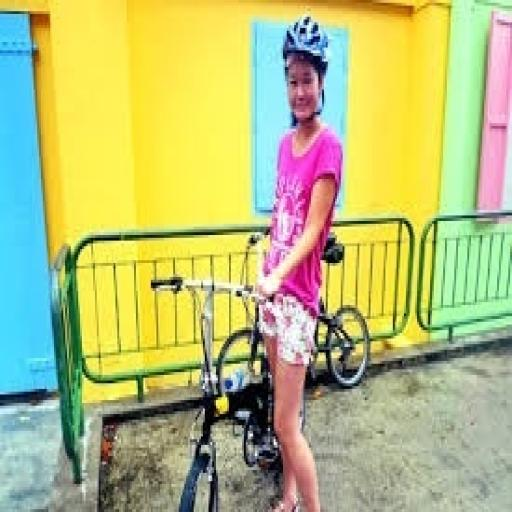cycling: (254, 14, 346, 509)
